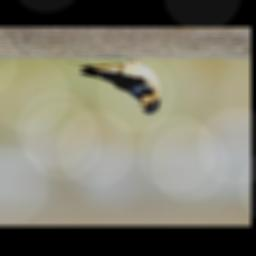Swallow: (64, 55, 161, 115)
